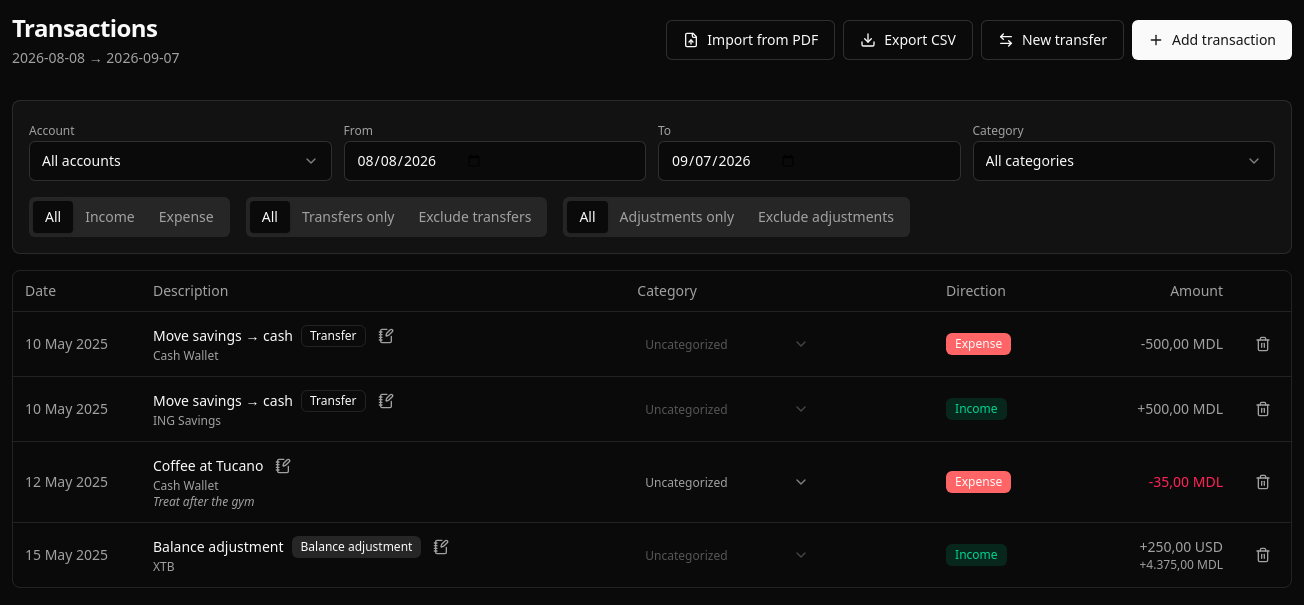
Test: App pages › Transactions page renders header + filters + table and reacts to a filter change
Expected: the heading "Transactions" is shown, [12,12,180,44]
Expected: the link with test id "import-pdf-button" is shown, [666,20,835,60]
Changing a filter runs handleFilterChange (setFilterState + reset page).
Click the tab with test id "filter-direction-income" at (110, 217), box [73,201,147,233]
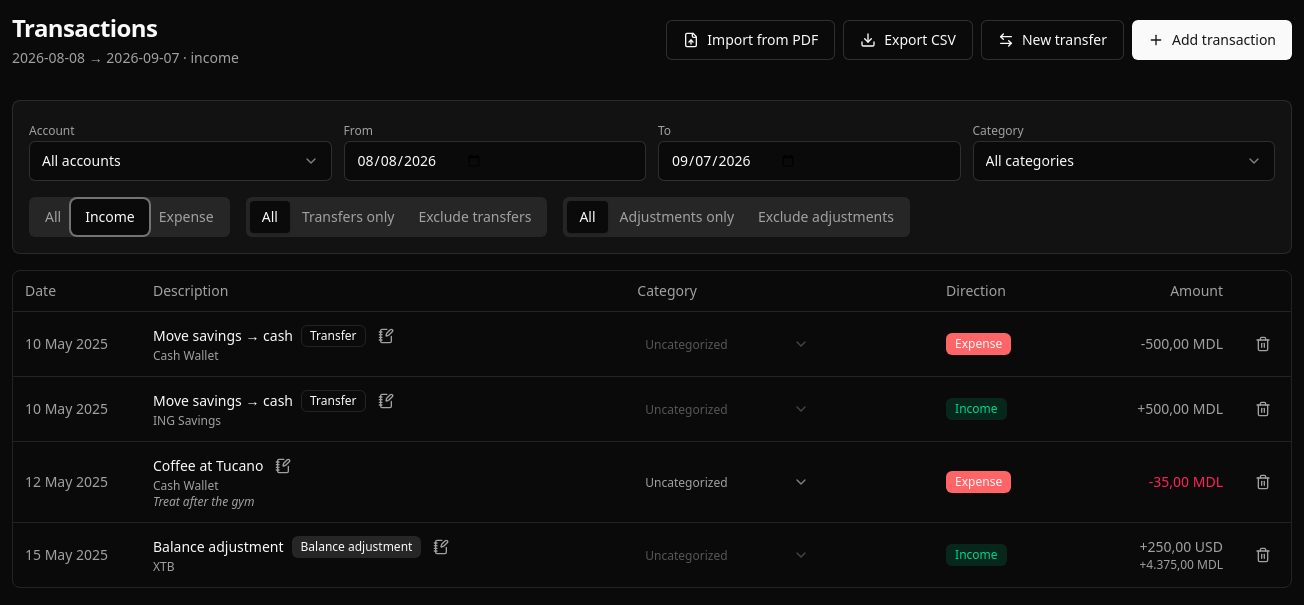
Now the text "2026-08-08 → 2026-09-07 · income" is shown, box [12,48,239,68]
